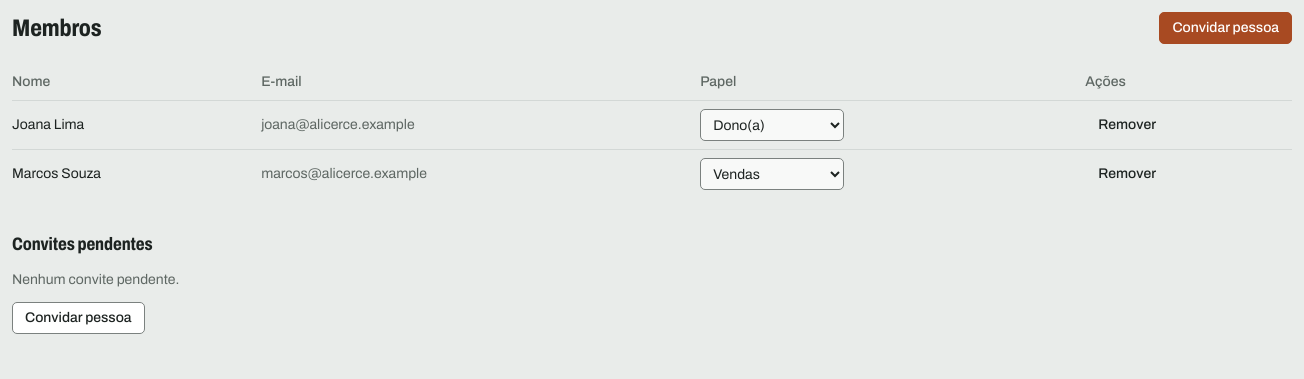
Test case: MembersScreen › removes a member after confirmation
Step 1. Click the button "Remover" in the row of "Marcos Souza" → {"x": 1127, "y": 174}, box [1085, 158, 1169, 190]
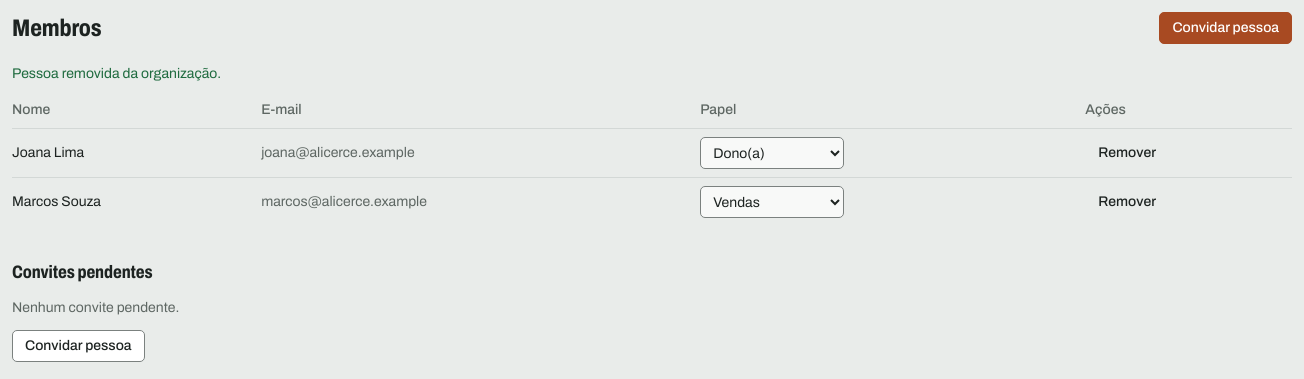
Expected: the message reads "Pessoa removida da organização.", [12, 66, 221, 81]
